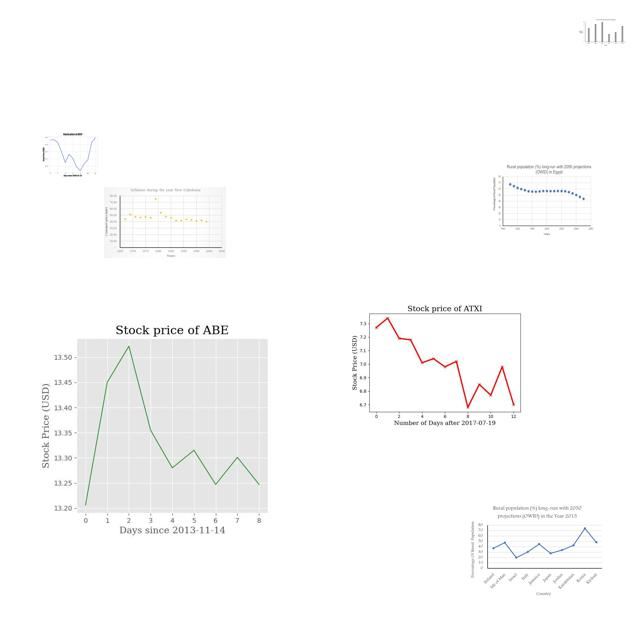Graph: (17, 311, 320, 538), (345, 289, 540, 435), (468, 503, 604, 598), (104, 187, 226, 258), (491, 163, 597, 237), (40, 130, 104, 178), (577, 18, 627, 47)
